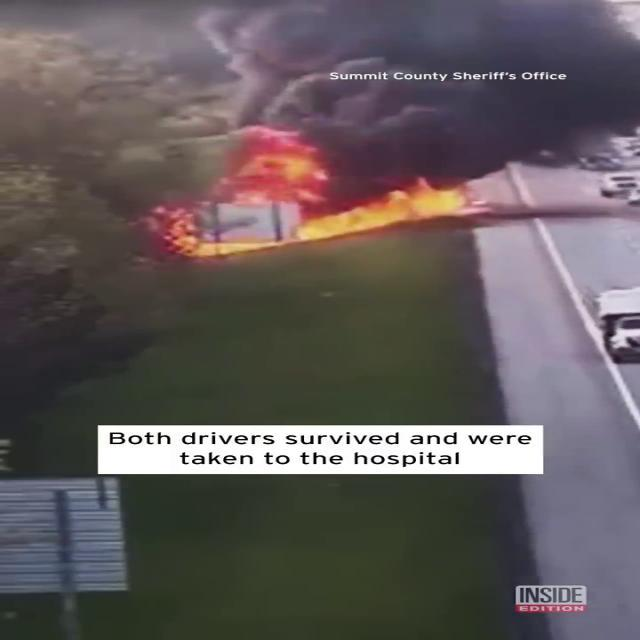Fire: (158, 140, 478, 258)
Smoke: (208, 0, 640, 160)
